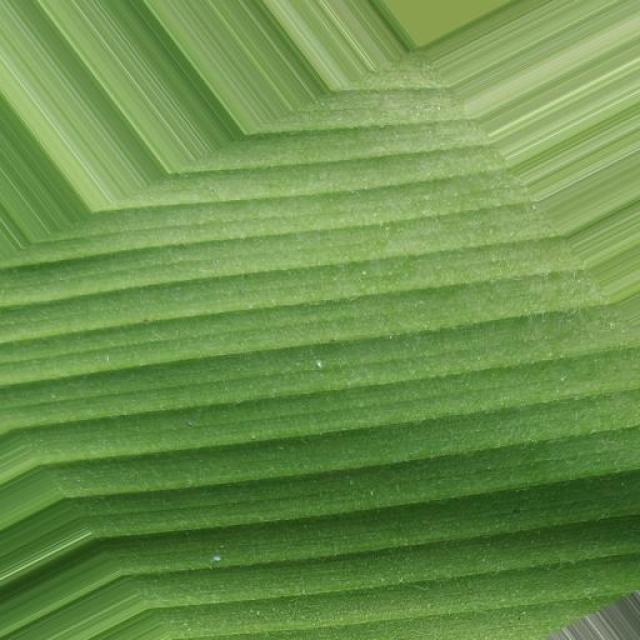Black_leaf_spot: (0, 0, 637, 564)
